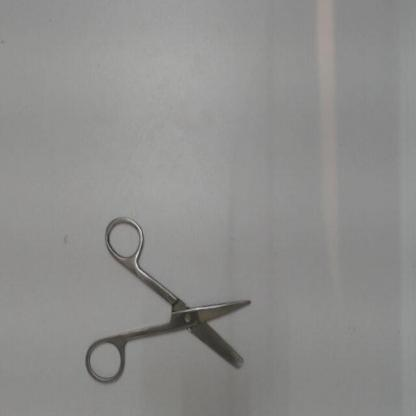Dressing Scissors: (76, 208, 263, 390)
